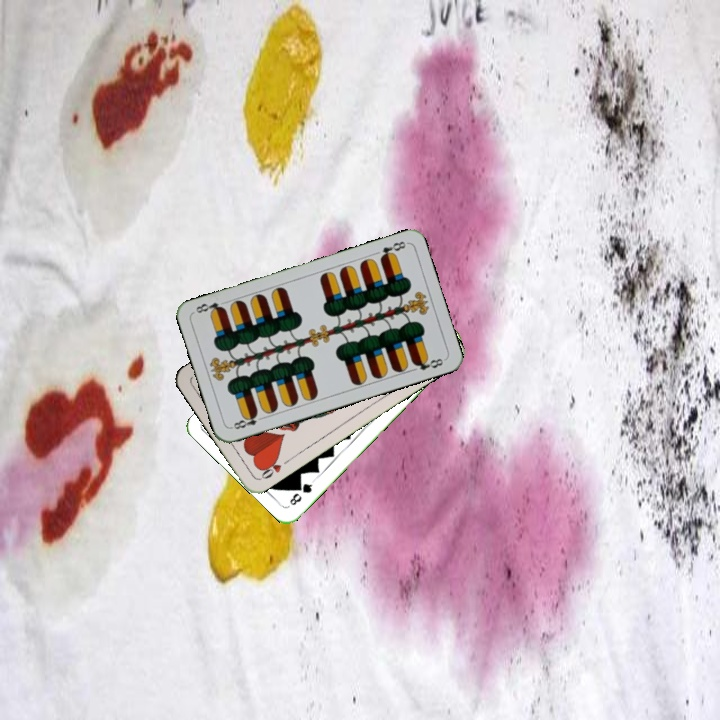E8: (228, 409, 267, 432), (376, 237, 409, 263)
G8: (285, 479, 315, 508)
HO: (256, 454, 292, 482)
